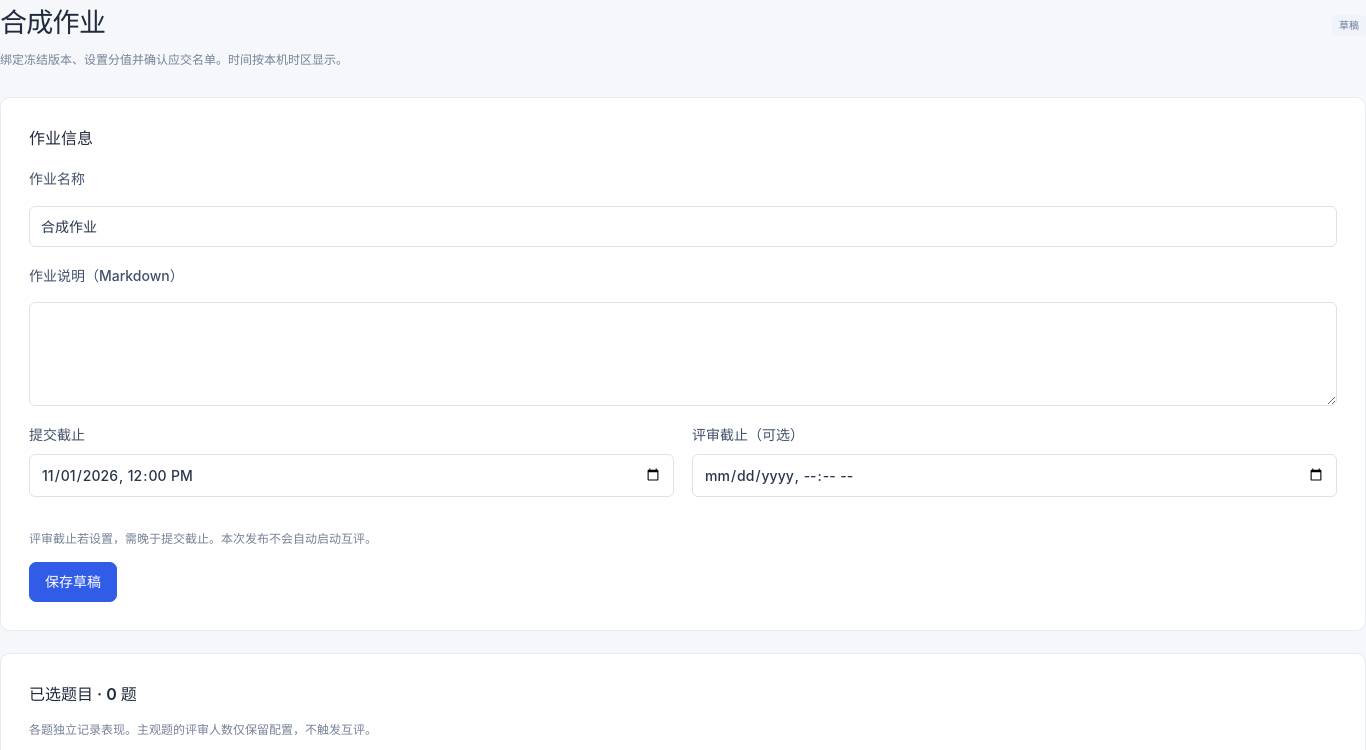
Test case: unsaved edits block publication until the draft is saved
Replace the text in the field labelled "作业名称" with "未保存" at (683, 226), box [29,206,1337,247]
(page scrolled)
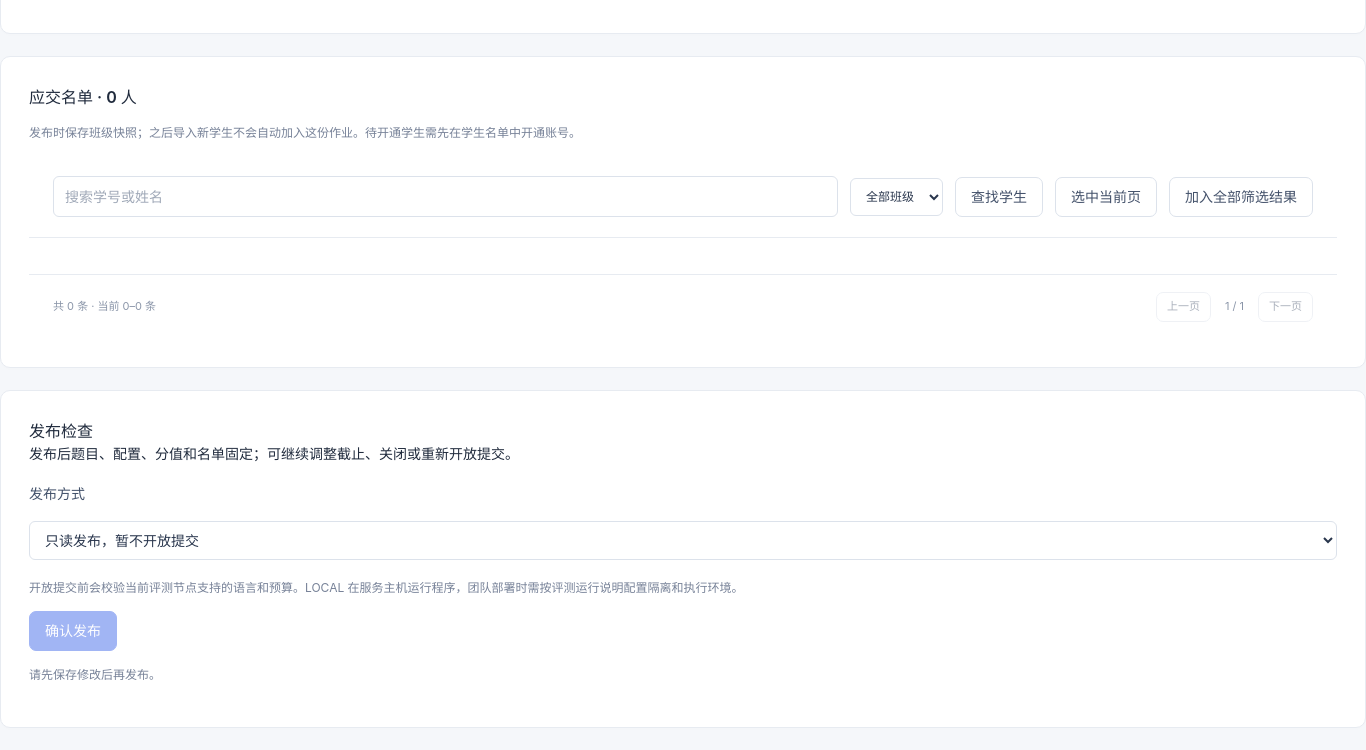
Now the button "确认发布" is disabled, box [29,611,117,651]
